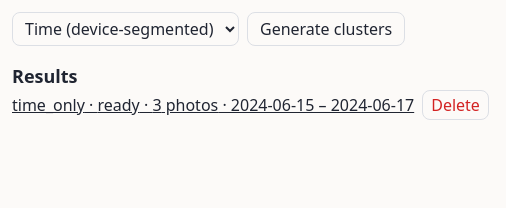
Test: ClusterView › renders a failed result with its error message
What coordinates should you click on to do the following:
click the button with test id "result-row"
I would click on:
 (213, 105)
Its box is [12,93,414,117].
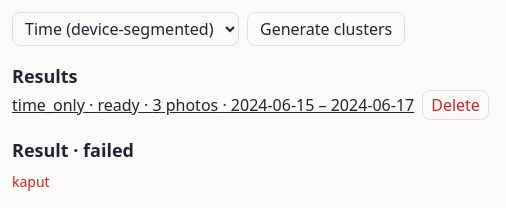
Check: the text "kaput" is shown, box [12,172,50,191]
